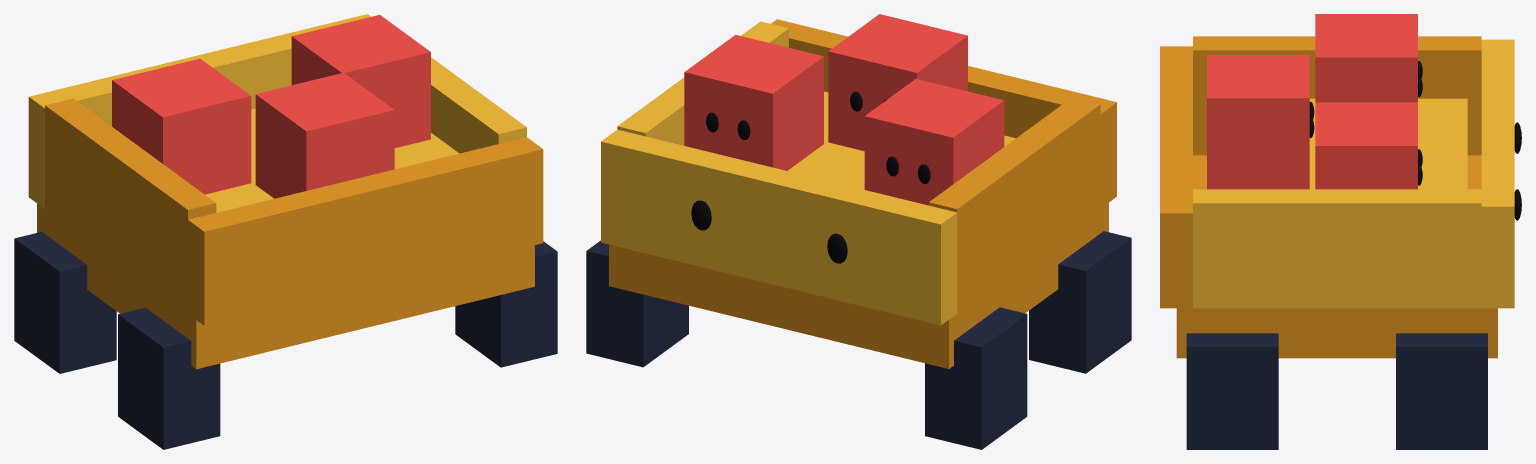
File: CarrierCart_Enemy.gltf
3 renders of one model, left to right at view 1: azimuth 30°, elevation 25°; view 2: azimuth 150°, elevation 25°; view 3: azimuth 270°, elevation 25°, orthographic.
Parts seen in each view (by area): view 1: WallBack, BedBase, WallLeft, BotRear, BotLeft, WheelRearLeft, WheelFrontLeft, BotRight, WallFront, WheelRearRight, WallRight, BedFloor; view 2: WallFront, BedBase, WallLeft, BotRight, BotLeft, WheelFrontLeft, BotRear, WheelRearLeft, WheelFrontRight, WallBack, WallRight, BedFloor; view 3: WallRight, BotRear, BedBase, WheelRearRight, WheelFrontRight, WallFront, BotLeft, BotRight, WallLeft, WallBack, BedFloor.
Boxes of the visible parts, x1,y1,x2,y2 form: WallBack: [188, 137, 543, 325]; BedBase: [37, 203, 534, 369]; WallLeft: [45, 98, 216, 313]; BotRear: [255, 72, 394, 198]; BotLeft: [112, 58, 251, 194]; WheelRearLeft: [118, 307, 220, 449]; WheelFrontLeft: [14, 231, 116, 373]; BotRight: [291, 15, 430, 147]; WallFront: [28, 14, 370, 208]; WheelRearRight: [455, 241, 557, 367]; WallRight: [431, 57, 526, 153]; BedFloor: [205, 108, 459, 212]; WallFront: [601, 129, 957, 325]; BedBase: [609, 202, 1108, 368]; WallLeft: [929, 97, 1100, 312]; BotRight: [684, 34, 823, 170]; BotLeft: [864, 79, 1004, 205]; WheelFrontLeft: [925, 307, 1027, 449]; BotRear: [828, 14, 967, 151]; WheelRearLeft: [1029, 231, 1131, 373]; WheelFrontRight: [586, 240, 688, 367]; WallBack: [771, 19, 1116, 207]; WallRight: [617, 21, 788, 145]; BedFloor: [788, 91, 1015, 189]; WallRight: [1193, 189, 1481, 308]; BotRear: [1207, 55, 1309, 189]; BedBase: [1176, 155, 1497, 358]; WheelRearRight: [1186, 333, 1278, 449]; WheelFrontRight: [1396, 333, 1487, 449]; WallFront: [1481, 39, 1514, 308]; BotLeft: [1315, 14, 1417, 102]; BotRight: [1315, 102, 1417, 189]; WallLeft: [1193, 36, 1481, 155]; WallBack: [1160, 46, 1192, 308]; BedFloor: [1309, 98, 1467, 189].
Size of the model in its own units: 2.5 by 1.66 by 1.97.
